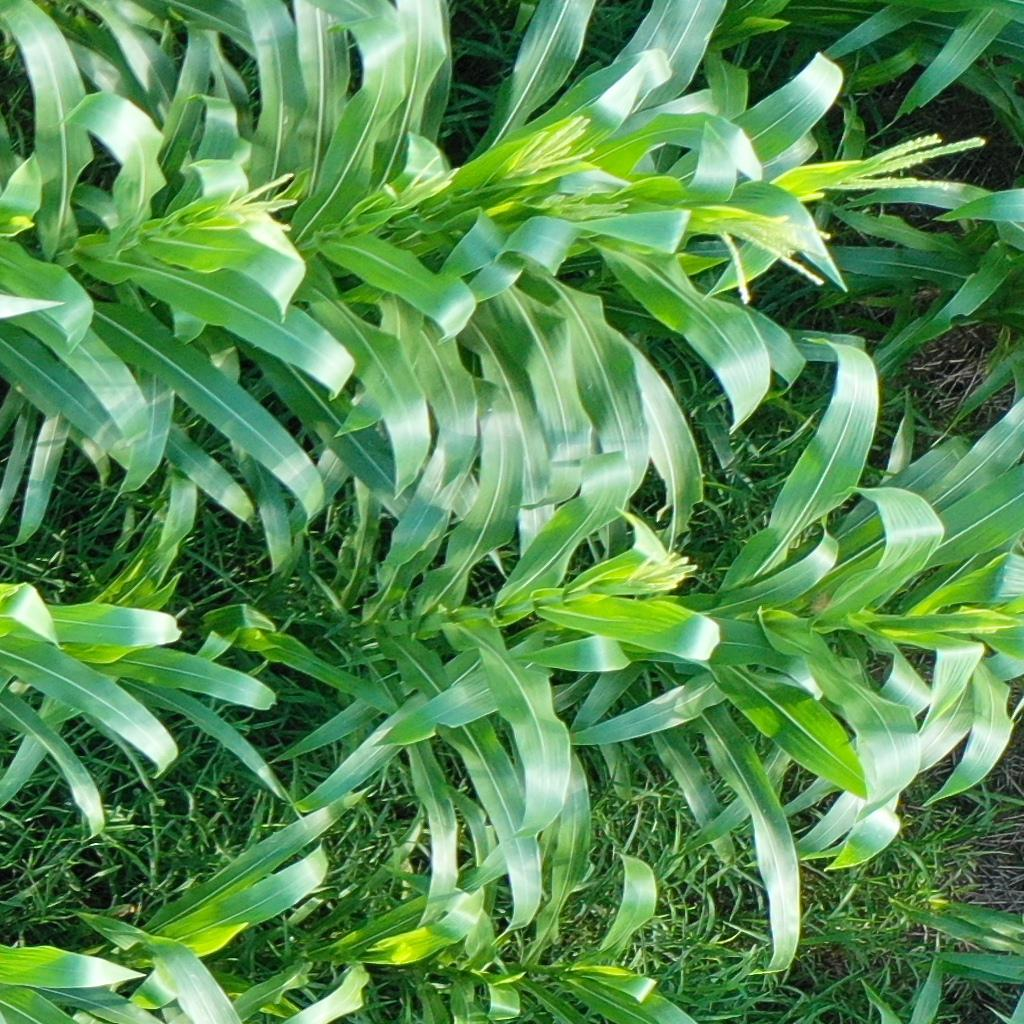Tassel: (701, 208, 837, 305), (818, 130, 994, 204), (507, 115, 601, 184), (210, 168, 302, 234), (607, 544, 701, 603), (381, 152, 462, 212), (531, 179, 631, 225), (969, 612, 1024, 643)
